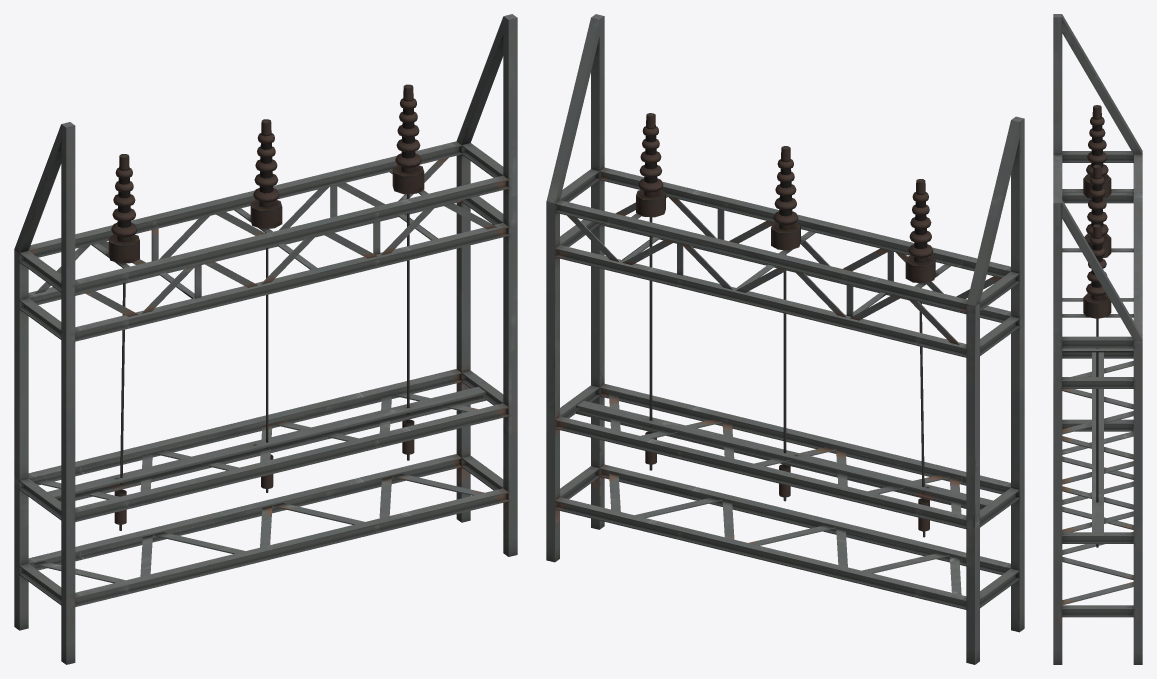
3 renders of one model, left to right at view 1: azimuth 30°, elevation 25°; view 2: azimuth 150°, elevation 25°; view 3: azimuth 270°, elevation 25°, orthographic. The views are drawn at different scales.
Parts seen in each view (by area): view 1: body0_model0_lod0_mesh0; view 2: body0_model0_lod0_mesh0; view 3: body0_model0_lod0_mesh0.
Part boxes in pixels (x1=…): body0_model0_lod0_mesh0: x1=14, y1=14, x2=517, y2=664; body0_model0_lod0_mesh0: x1=546, y1=14, x2=1024, y2=664; body0_model0_lod0_mesh0: x1=1053, y1=14, x2=1142, y2=664.
Bounding box in the file's own units: 50 × 56.88 × 10.
Materials: 1 (1 with a texture image).
